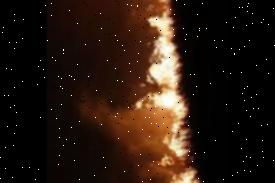fire: (134, 0, 200, 183)
